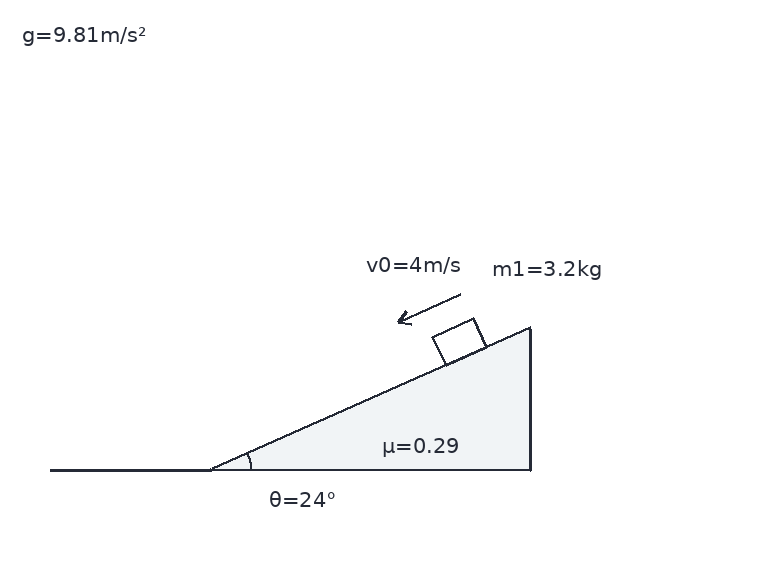block: (430, 316, 488, 368)
ramp: (209, 326, 533, 472)
